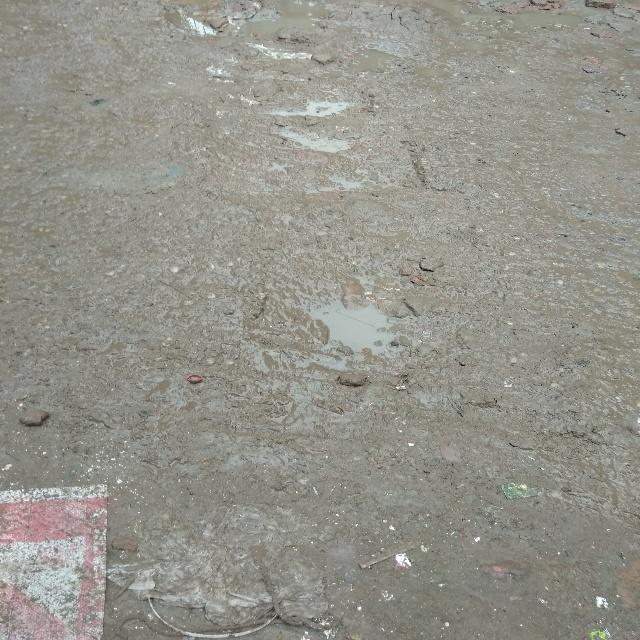Surface Erosion: (163, 4, 518, 454)
